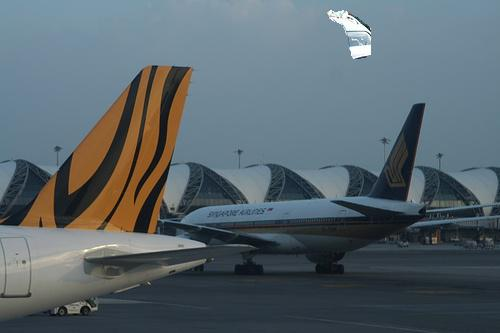tampered: (327, 11, 371, 59)
